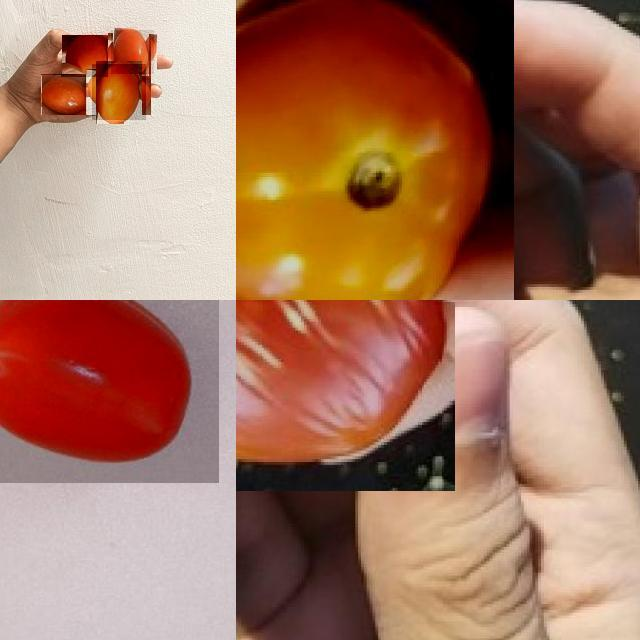Fresh Tomato: (236, 0, 513, 300), (0, 300, 218, 483), (92, 64, 146, 120), (62, 35, 108, 77), (111, 30, 154, 74), (42, 74, 88, 115)
Rotten Tomato: (236, 300, 455, 490)
